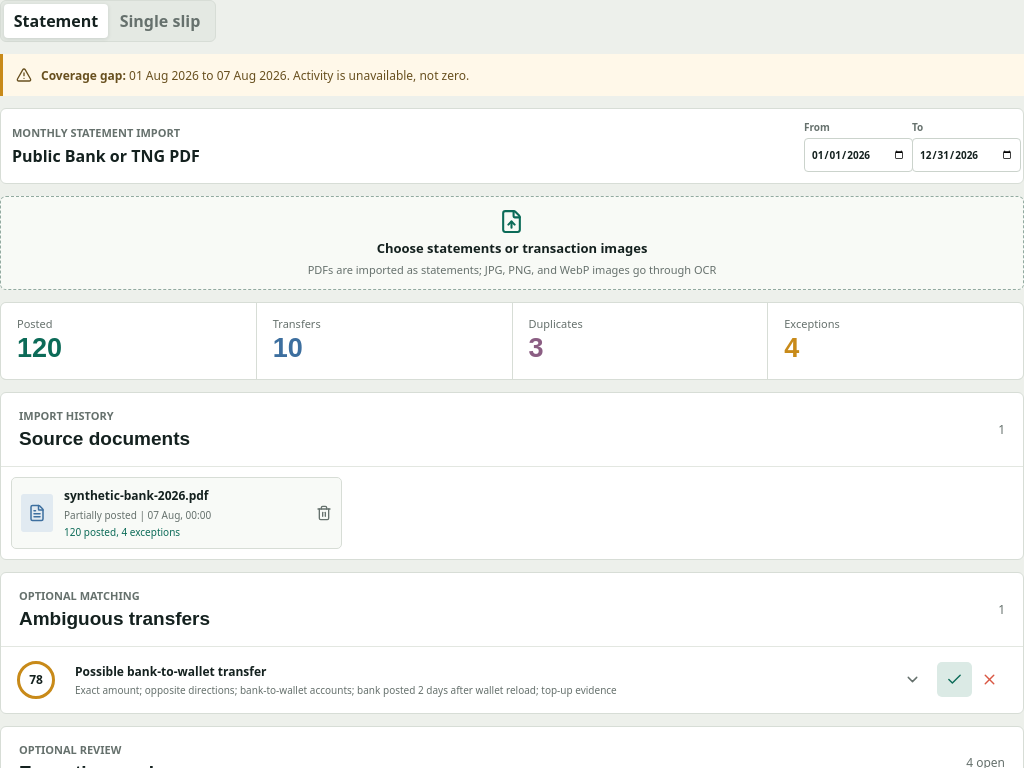
Test: ImportsPage statement-first workflow › expands an ambiguous transfer and reports confirmation failures
The width and height of the screenshot is (1024, 768).
What coordinates should you click on to do the following:
click the button with aria-label "Show transfer details"
I would click on:
 (498, 680)
Its box is [69,656,927,704].
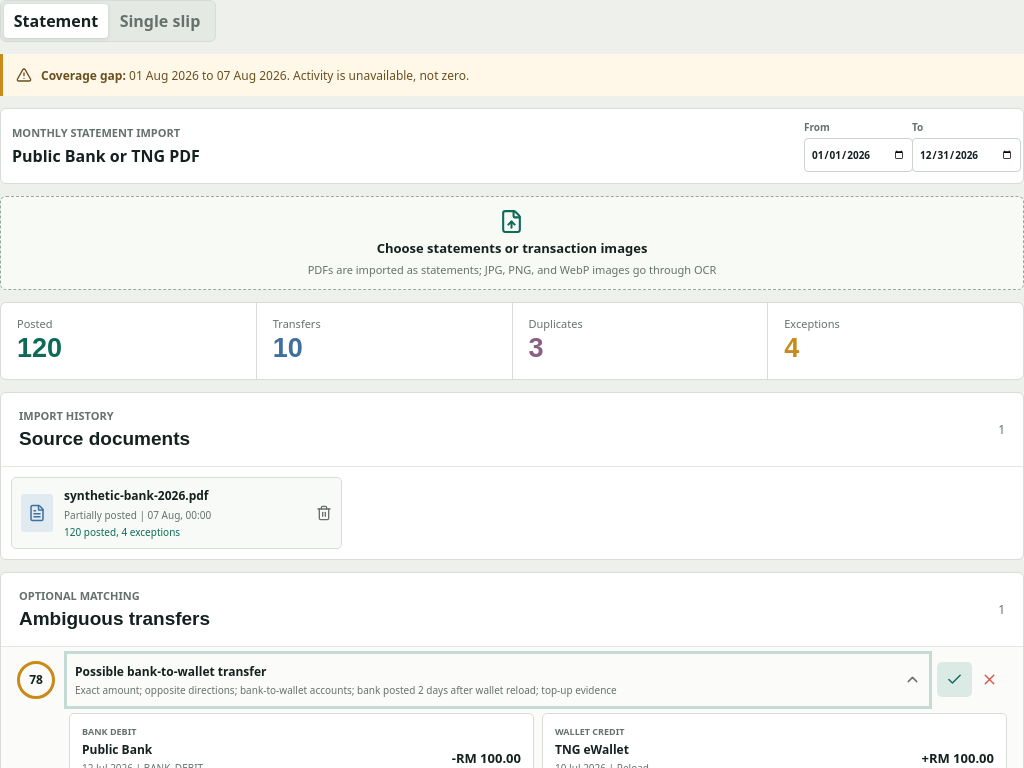
Expected: the text "Public Bank" is shown, [82,741,152,758]
Expected: the text "TNG eWallet" is shown, [555,741,629,758]
Expected: the text "-RM 100.00" is shown 2 times, [452,749,521,767]; [922,749,994,767]
What coordinates should you click on to do the following:
click the button named "Confirm transfer"
I would click on:
 (954, 680)
Its box is [937,662,972,697].
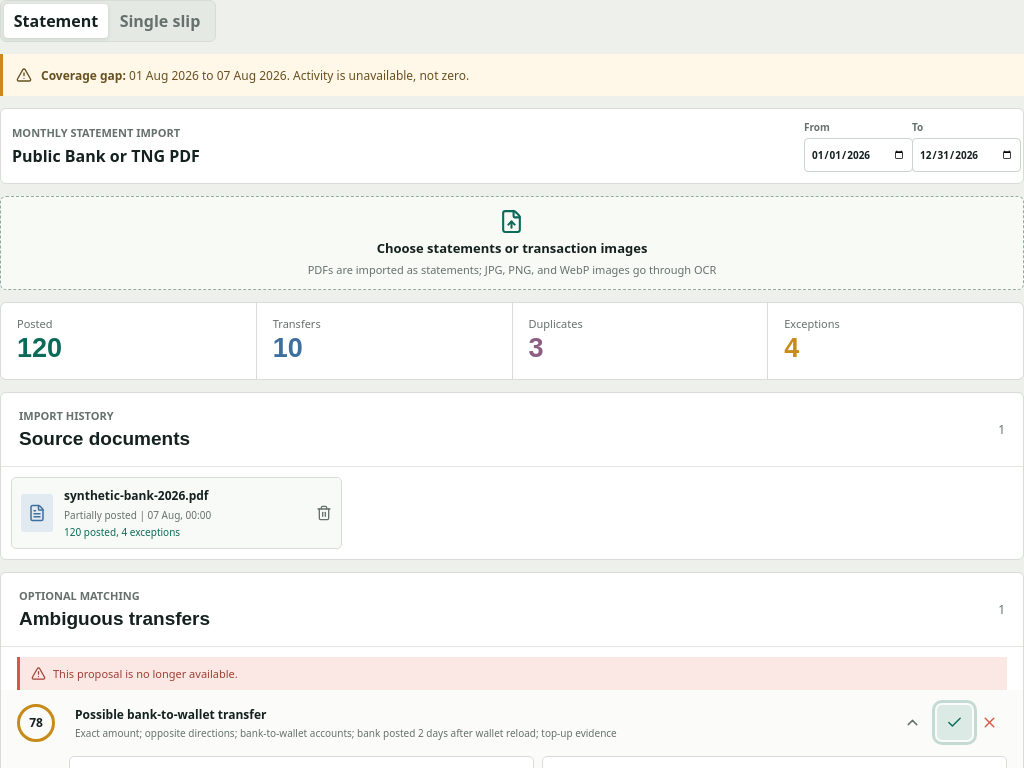
Expected: the text "This proposal is no longer available." is shown, [17,657,1007,690]
